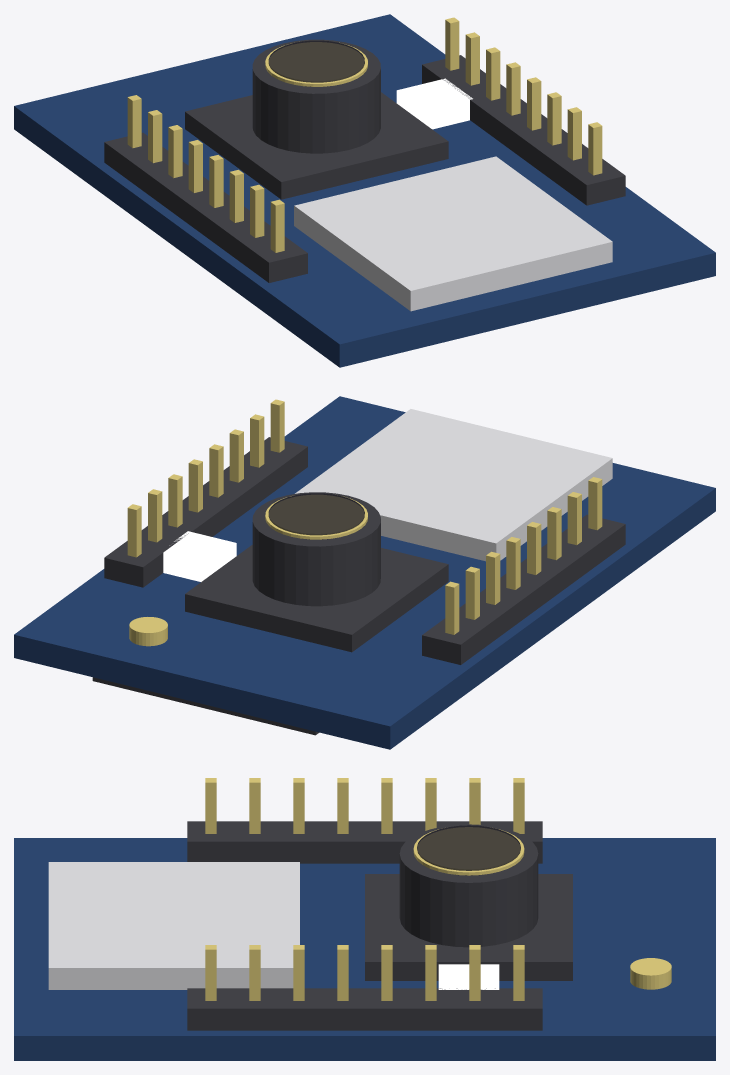
The model's file is esp32_cam_ov2640.glb.
The picture shows the model from 3 angles, top to bottom: view 1: azimuth 30°, elevation 25°; view 2: azimuth 150°, elevation 25°; view 3: azimuth 270°, elevation 25°; orthographic projection. The views are drawn at different scales.
Parts seen in each view (by area): view 1: ESP32_CAM_PCB, MicroSD_Socket, OV2640_Socket, Lens_Barrel, Header_Left_Base, Header_Right_Base, Aperture_Ring, Front_Lens, Flash_LED, Header_Right_Pin_1, Header_Right_Pin_3, Header_Right_Pin_7 (+13 smaller); view 2: ESP32_CAM_PCB, MicroSD_Socket, OV2640_Socket, Lens_Barrel, Header_Left_Base, Header_Right_Base, Aperture_Ring, Front_Lens, Flash_LED, IPEX_Connector, Cam_Antenna_Keepout, Header_Right_Pin_2 (+15 smaller); view 3: ESP32_CAM_PCB, MicroSD_Socket, Header_Right_Base, Lens_Barrel, OV2640_Socket, Header_Left_Base, Aperture_Ring, Front_Lens, Flash_LED, IPEX_Connector, Header_Left_Pin_4, Header_Left_Pin_5 (+14 smaller).
Boxes of the visible parts, <box> form: ESP32_CAM_PCB: <box>14,14,715,367</box>; MicroSD_Socket: <box>294,156,612,311</box>; OV2640_Socket: <box>185,92,448,199</box>; Lens_Barrel: <box>252,39,380,153</box>; Header_Left_Base: <box>104,132,307,282</box>; Header_Right_Base: <box>422,55,625,205</box>; Aperture_Ring: <box>265,42,367,86</box>; Front_Lens: <box>268,40,364,86</box>; Flash_LED: <box>396,78,472,129</box>; Header_Right_Pin_1: <box>445,17,459,70</box>; Header_Right_Pin_3: <box>486,47,500,100</box>; Header_Right_Pin_7: <box>567,107,581,160</box>; ESP32_CAM_PCB: <box>14,396,715,749</box>; MicroSD_Socket: <box>295,409,612,561</box>; OV2640_Socket: <box>185,545,448,652</box>; Lens_Barrel: <box>252,492,380,606</box>; Header_Left_Base: <box>422,514,625,664</box>; Header_Right_Base: <box>104,437,307,587</box>; Aperture_Ring: <box>265,495,367,539</box>; Front_Lens: <box>268,493,364,539</box>; Flash_LED: <box>163,531,236,581</box>; IPEX_Connector: <box>129,617,167,646</box>; Cam_Antenna_Keepout: <box>92,677,319,735</box>; Header_Right_Pin_2: <box>148,489,162,542</box>; ESP32_CAM_PCB: <box>14,838,715,1060</box>; MicroSD_Socket: <box>48,862,299,989</box>; Header_Right_Base: <box>187,988,542,1030</box>; Lens_Barrel: <box>399,824,538,947</box>; OV2640_Socket: <box>365,874,572,980</box>; Header_Left_Base: <box>187,821,542,863</box>; Aperture_Ring: <box>413,827,524,875</box>; Front_Lens: <box>417,825,520,875</box>; Flash_LED: <box>438,964,499,989</box>; IPEX_Connector: <box>630,958,671,989</box>; Header_Left_Pin_4: <box>381,778,392,833</box>; Header_Left_Pin_5: <box>337,778,348,833</box>.
Bounding box in the file's own units: 2.7 × 0.91 × 4.05.
